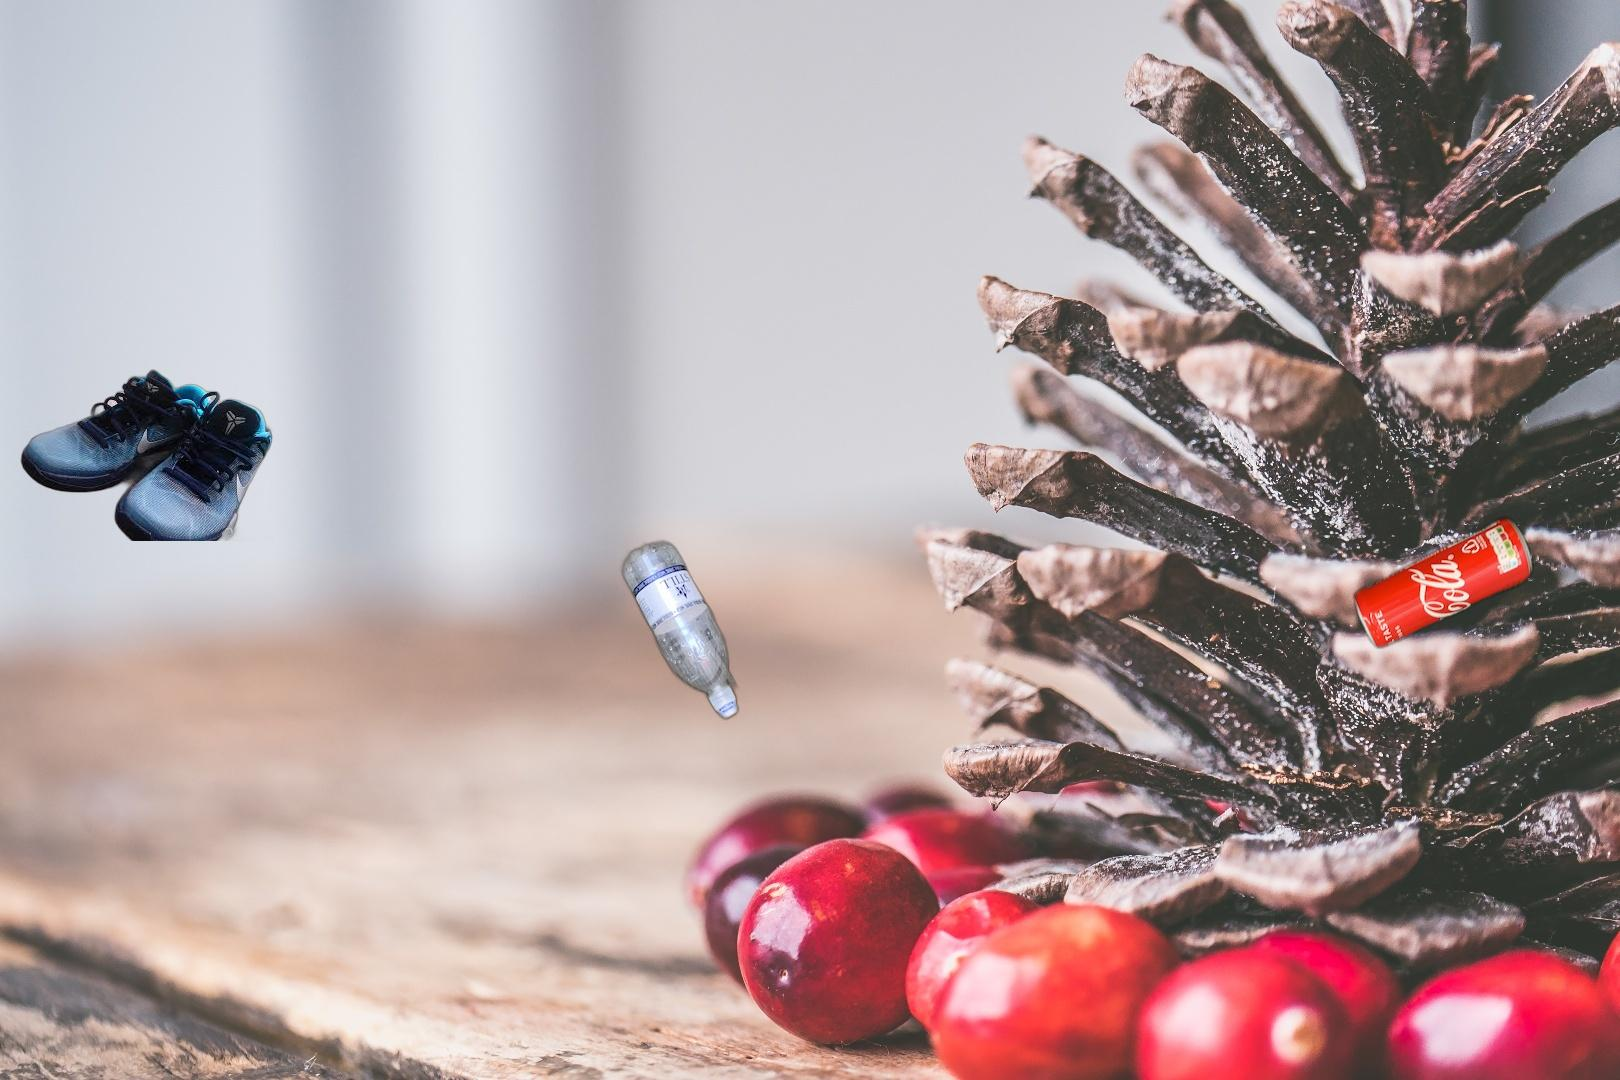metal-cans: (1349, 511, 1571, 1073)
plastic-bottles: (618, 535, 742, 888)
shoes: (18, 366, 274, 541)
